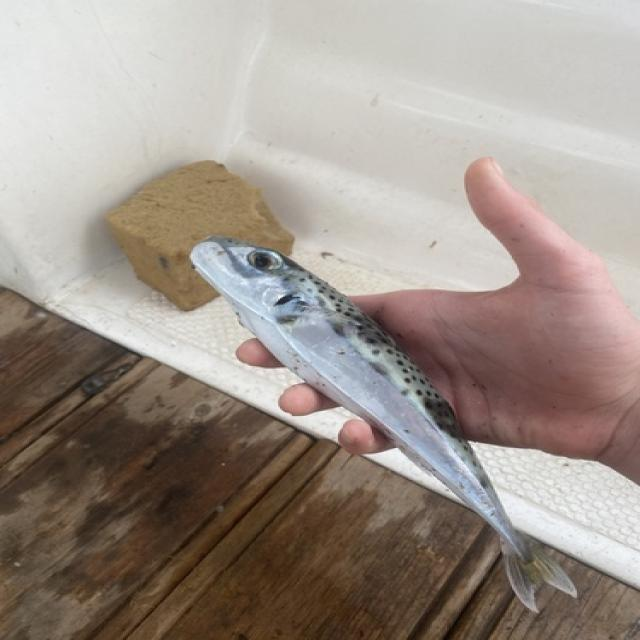Balik: (192, 237, 576, 610)
